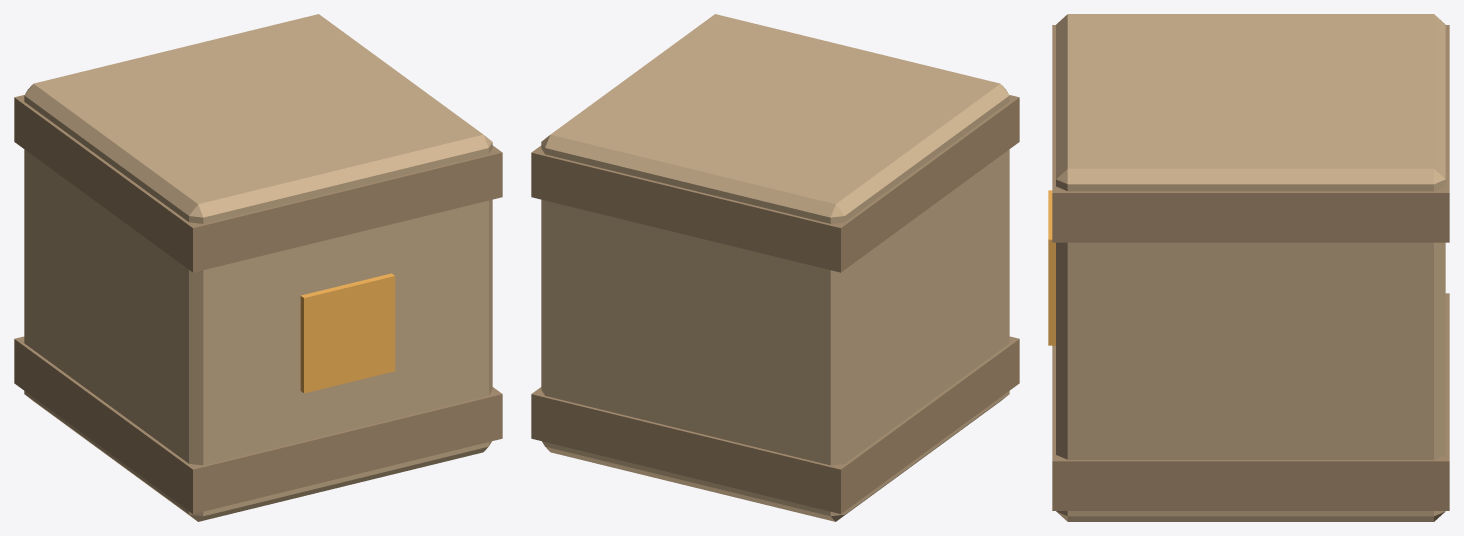
The model's file is sb_crate.glb.
3 views of the same model, side by side, from view 1: azimuth 30°, elevation 25°; view 2: azimuth 150°, elevation 25°; view 3: azimuth 270°, elevation 25° (orthographic). The views are drawn at different scales.
Parts seen in each view (by area): view 1: sb_crate; view 2: sb_crate; view 3: sb_crate.
Part boxes in pixels (x1,y1,x2,y2): sb_crate: (14,14,502,521); sb_crate: (531,14,1019,521); sb_crate: (1048,14,1449,521).
Bounding box in the file's own units: 1.02 × 1 × 1.03.
